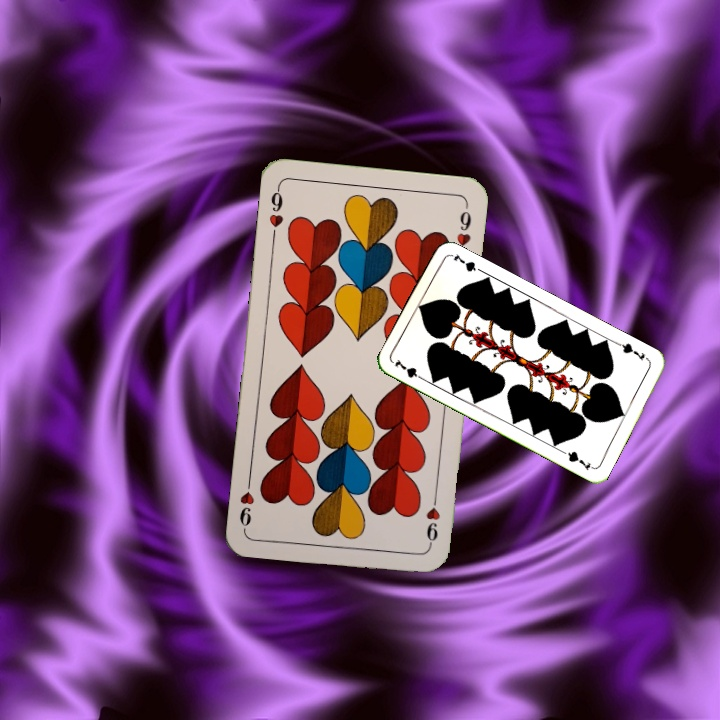G7: (390, 355, 428, 384), (614, 339, 647, 363)
H9: (265, 183, 286, 242), (422, 490, 442, 549)
